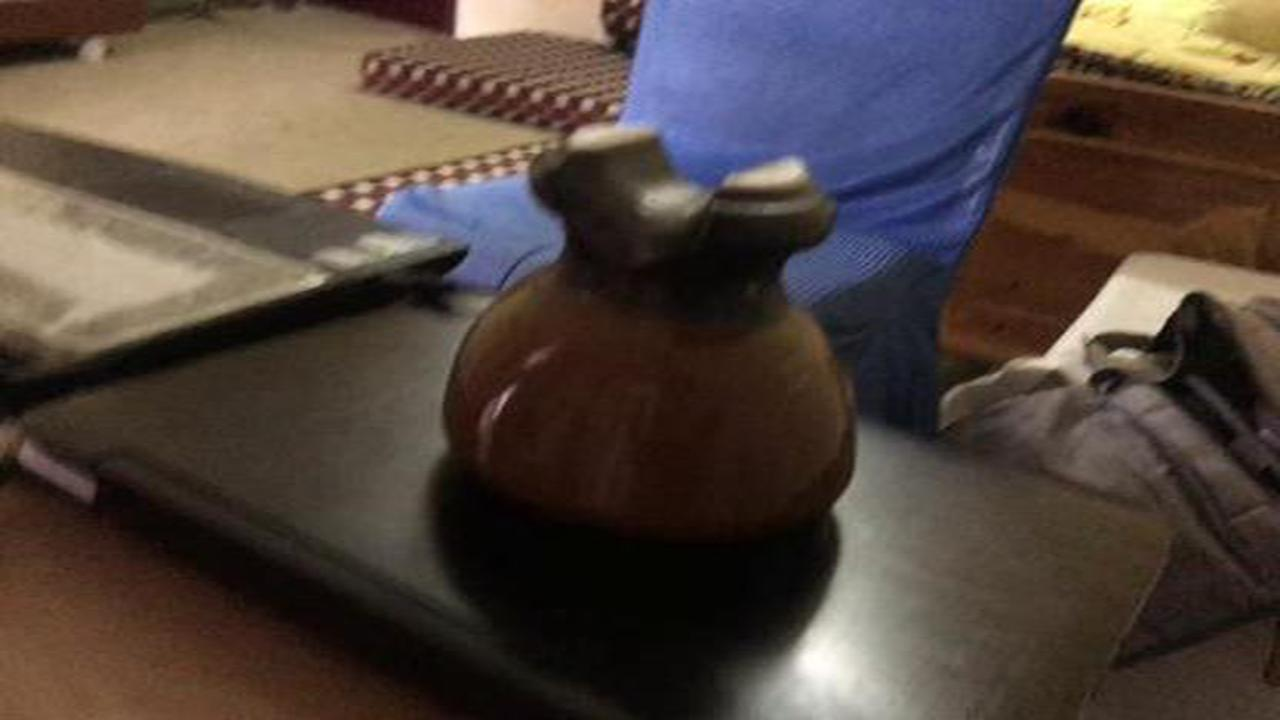insulator_pin: (431, 104, 896, 570)
